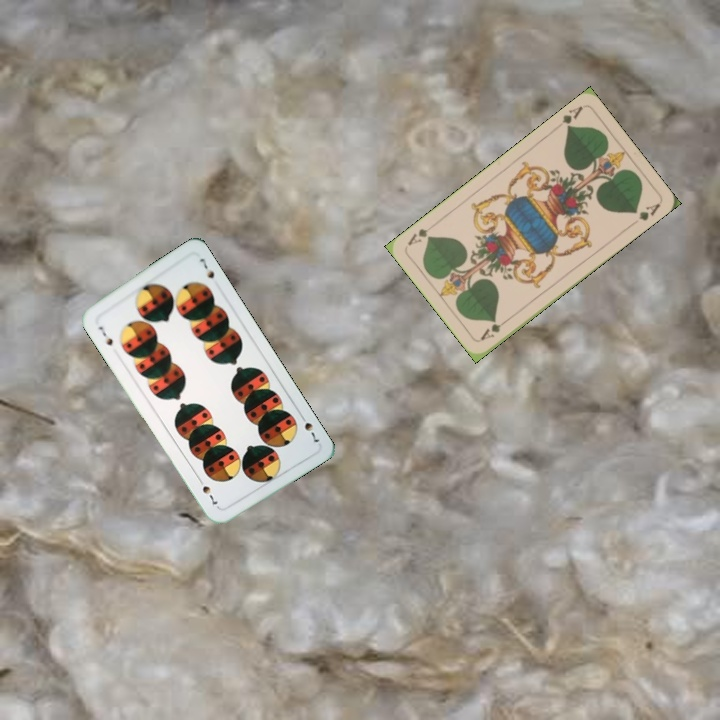GA: (476, 314, 512, 343), (558, 102, 586, 132)
S7: (296, 410, 322, 445), (94, 322, 115, 349)
